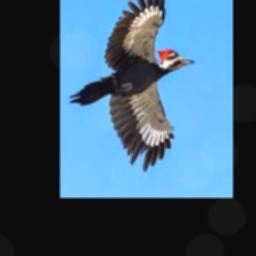Woodpecker: (69, 0, 195, 172)
